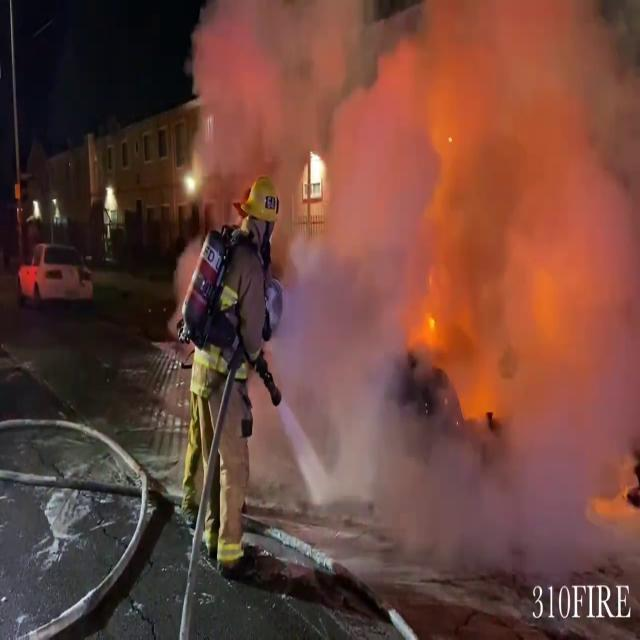Smoke: (185, 0, 640, 558)
